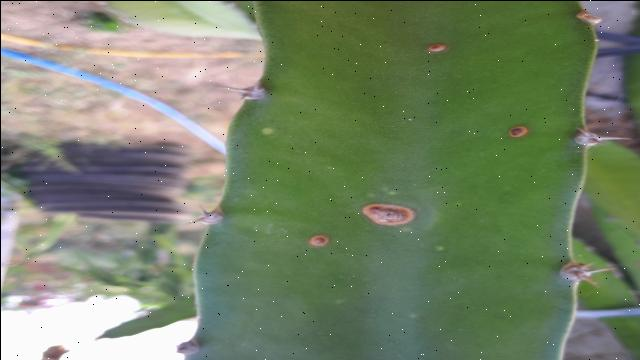stemcanker: (361, 203, 417, 227), (305, 231, 332, 250), (506, 124, 532, 140), (424, 42, 451, 55)
